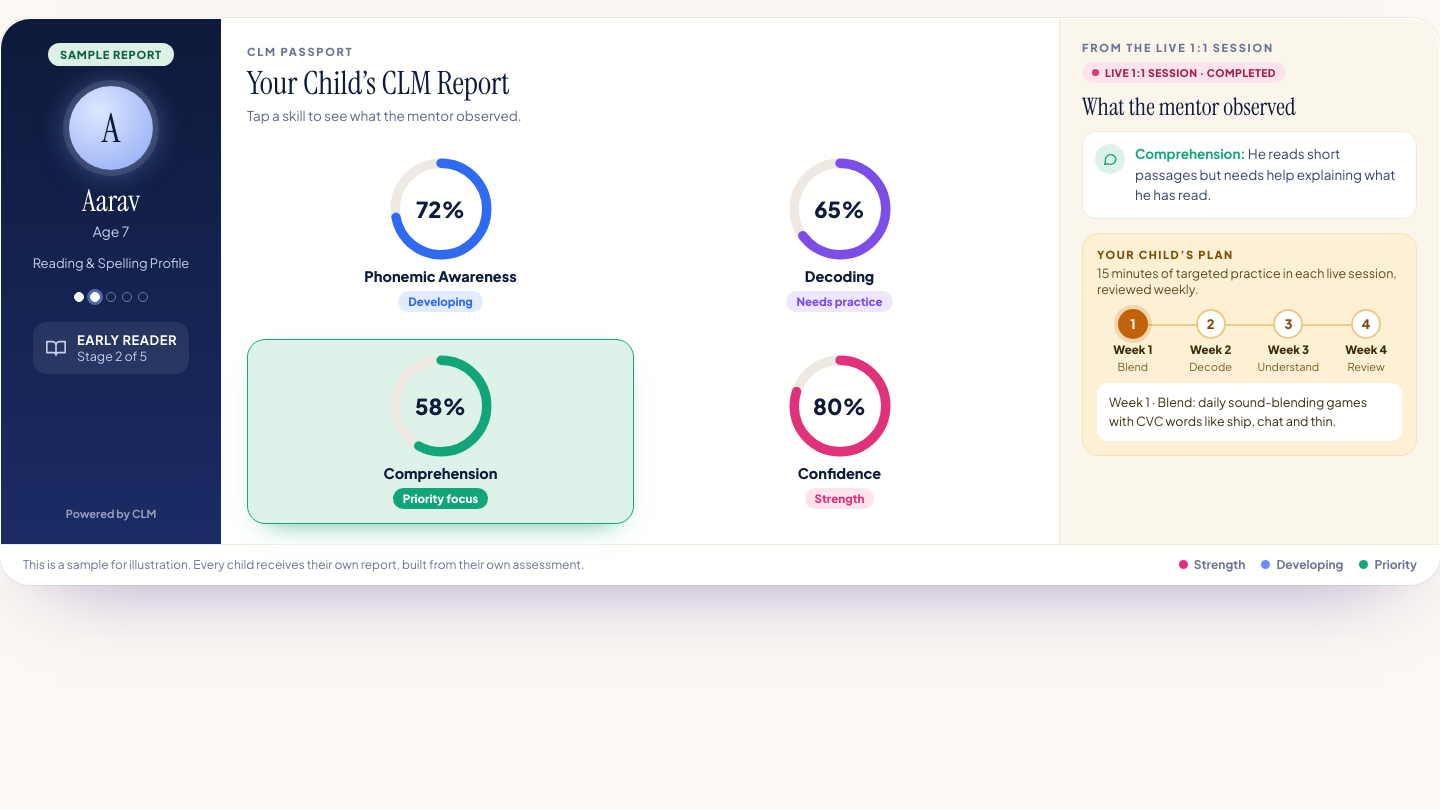
ReportPreview › shows what the mentor observed for the tapped skill
The width and height of the screenshot is (1440, 810).
Click the button "80% Confidence Strength" at (840, 432), box x1=646 y1=339 x2=1033 y2=524
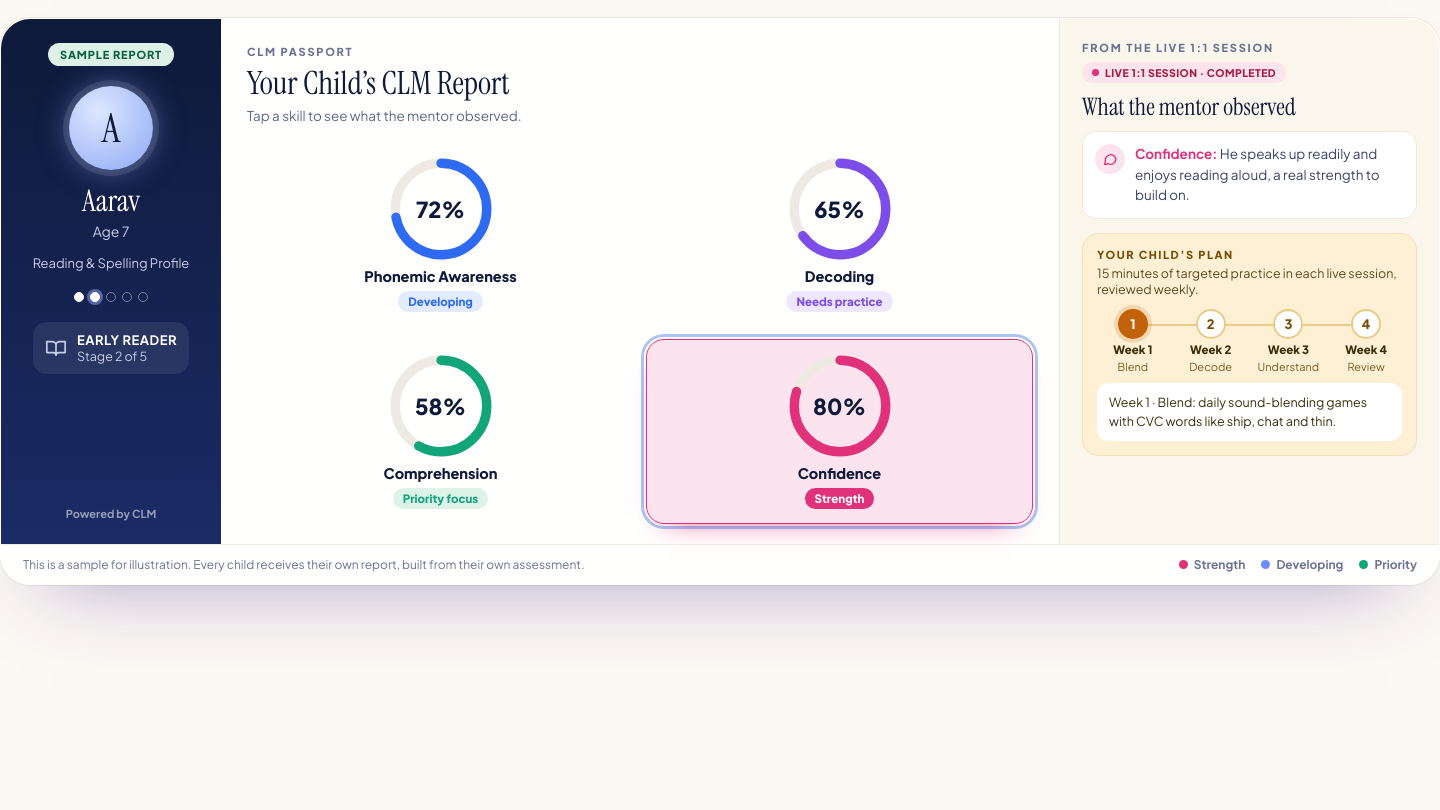
Expected: the text "He reads short passages but needs help explaining what he has read." is gone
